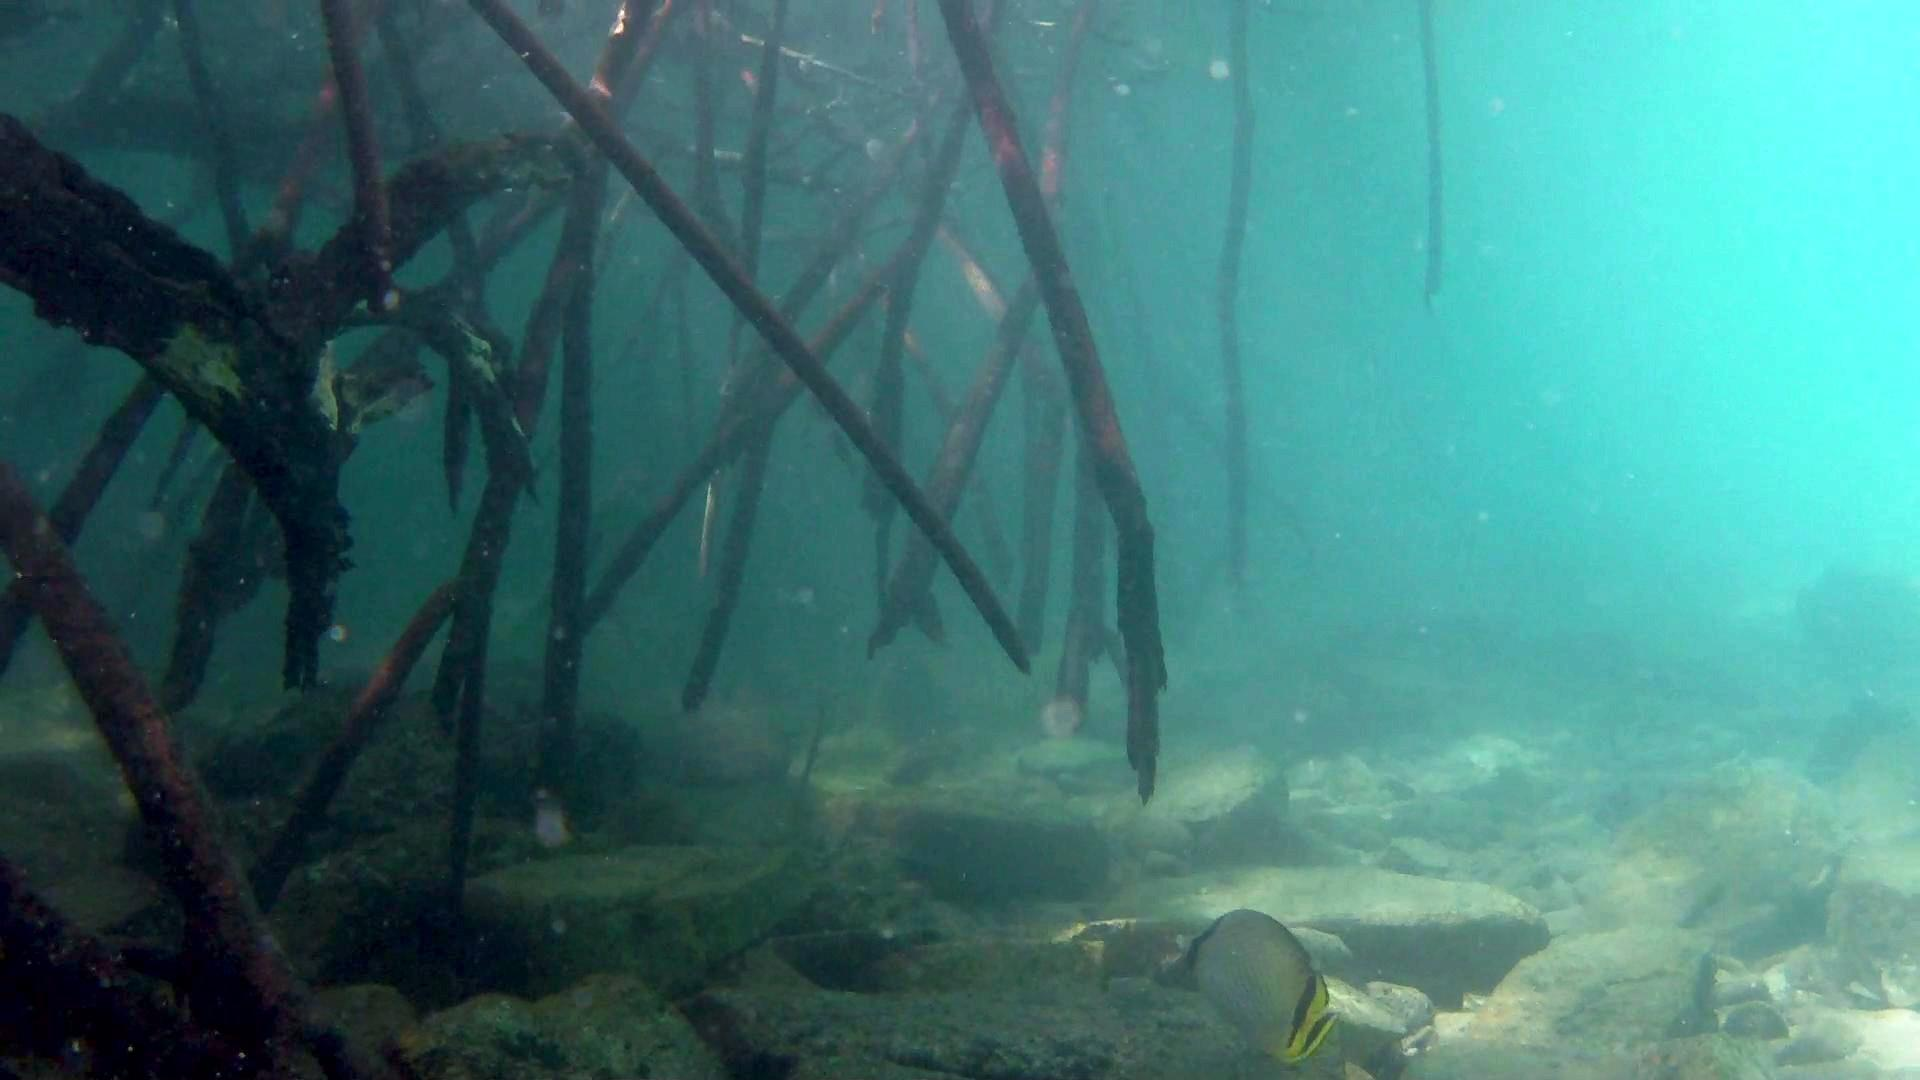chaetodon vagabundus: (1174, 907, 1341, 1065)
